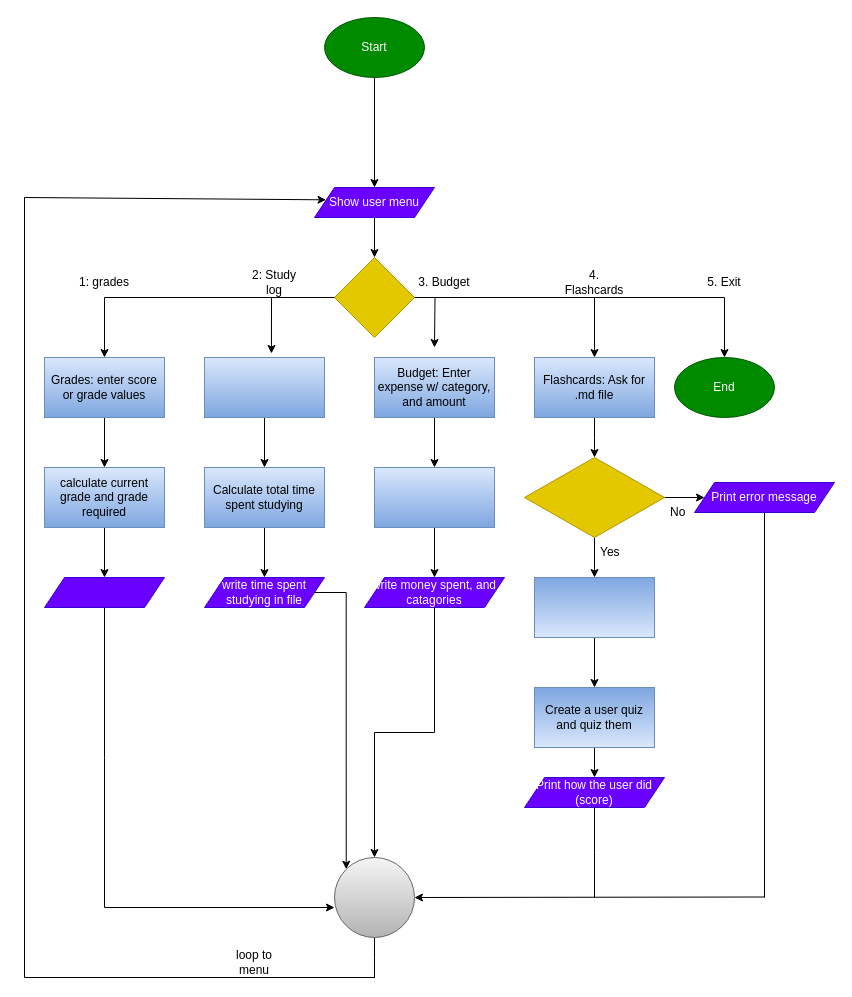
The diagram is 852 pixels wide and 997 high, and some of its shapes have lost their labels. The shapes that lost their labels are listed below. From the top down, each one's centre as x and y in pixels, then its label:
(x=374, y=297): Which option
(x=264, y=387): Study log: Enter class and mins studied
(x=434, y=497): calculate and display monthly total, budget, and warning if 80%+ used or over
(x=594, y=497): Found file and it's in correct format
(x=104, y=592): write to a grade file
(x=594, y=607): Parse the file using a type of question and answer section
(x=374, y=897): back to menu
